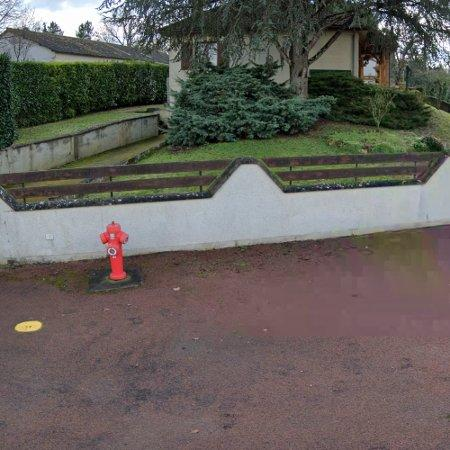a fire hydrant: (100, 221, 128, 280)
